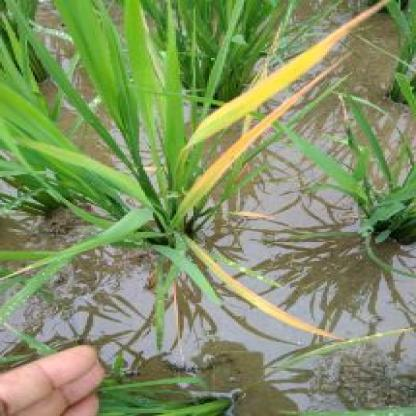Tungro: (178, 242, 342, 342)
